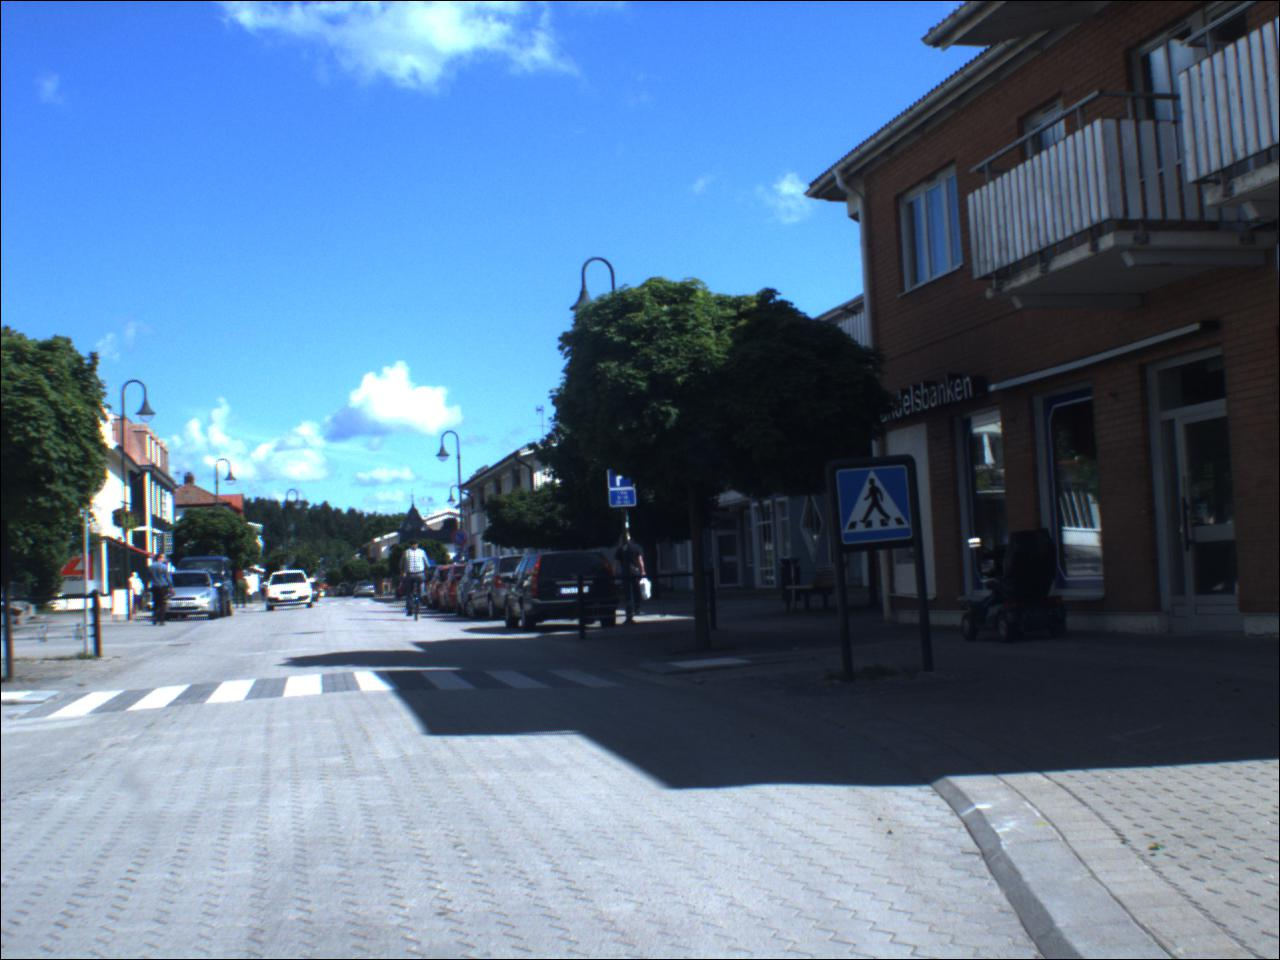NO_PARKING: (454, 530, 472, 549)
PEDESTRIAN_CROSSING: (837, 470, 916, 543)
